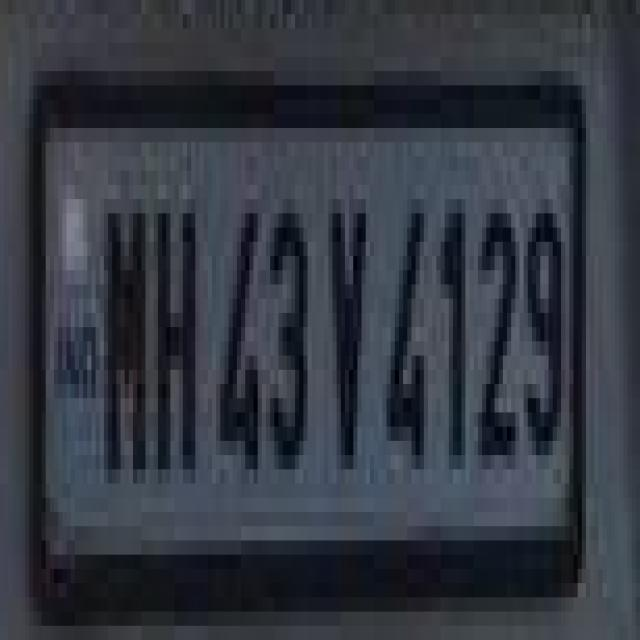license_plate: (33, 85, 582, 583)
